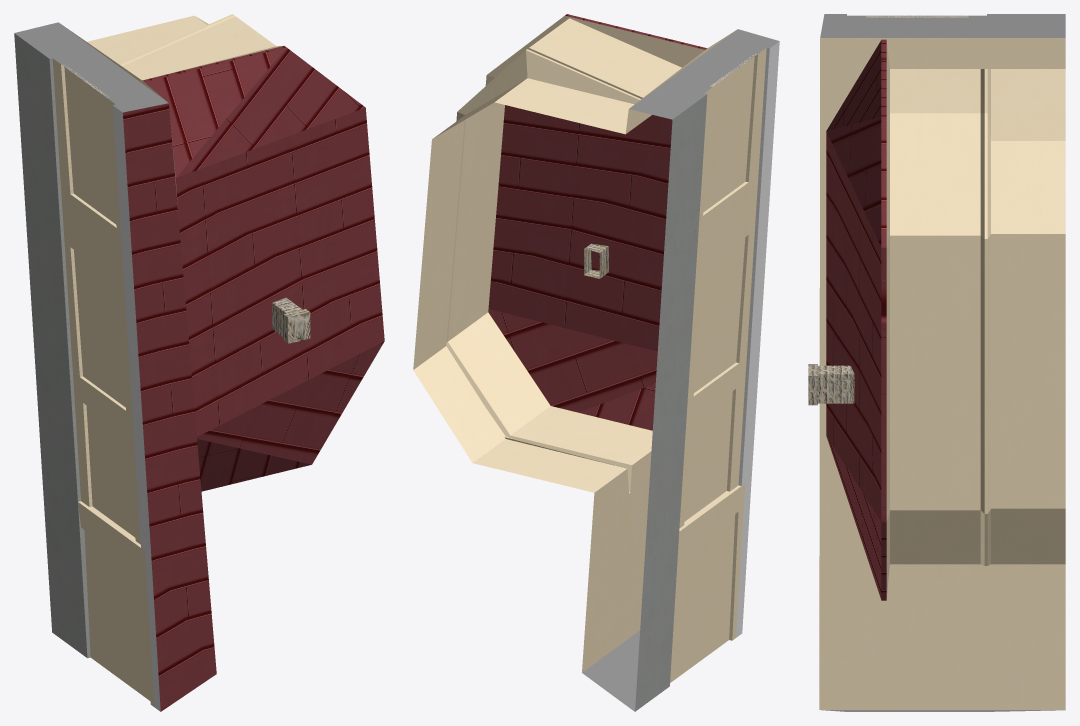
Rendered from Vana_viru_12_2-origo.obj.
3 renders of one model, left to right at view 1: azimuth 30°, elevation 25°; view 2: azimuth 150°, elevation 25°; view 3: azimuth 270°, elevation 25°, orthographic. The views are drawn at different scales.
Parts seen in each view (by area): view 1: Vana_viru_12_2; view 2: Vana_viru_12_2; view 3: Vana_viru_12_2.
Part boxes in pixels (x1,y1,x2,y2): Vana_viru_12_2: [14, 14, 384, 711]; Vana_viru_12_2: [413, 14, 779, 711]; Vana_viru_12_2: [808, 14, 1065, 711].
Size of the model in its own units: 5.69 by 11.5 by 3.96.
